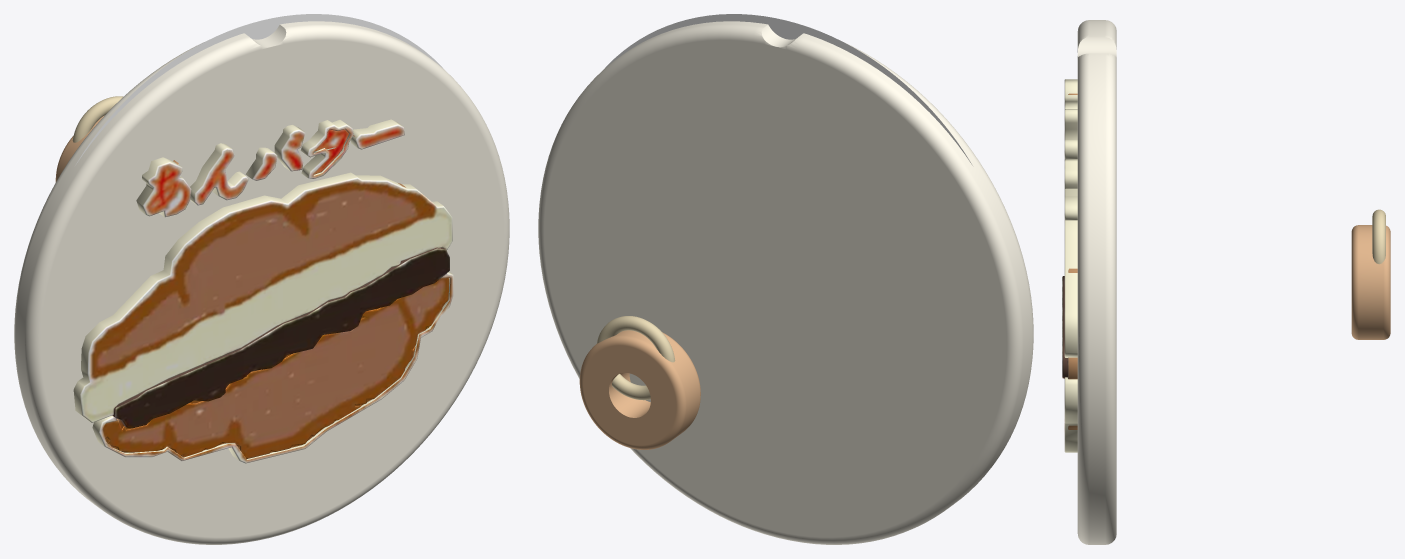
File: anbata.glb
3 views of the same model, side by side, from view 1: azimuth 30°, elevation 25°; view 2: azimuth 150°, elevation 25°; view 3: azimuth 270°, elevation 25° (orthographic). The views are drawn at different scales.
Parts seen in each view (by area): view 1: anbata / domed solid body, anbata / raised cream 1, anbata / raised letter 1, anbata / raised bean 1, anbata / raised cream 4, anbata / original fine lines on front, anbata / raised cream 2, anbata / raised cream 3, anbata / raised cream 8, anbata / raised cream 5, anbata / raised cream 6, anbata / display-only small connector (+2 smaller); view 2: anbata / domed solid body, anbata / integrated eyelet, anbata / original fine lines on front, anbata / display-only small connector; view 3: anbata / domed solid body, anbata / integrated eyelet, anbata / raised cream 1, anbata / raised cream 4, anbata / display-only small connector, anbata / raised cream 6, anbata / raised cream 3, anbata / raised cream 8, anbata / raised cream 2.
Part boxes in pixels (bbox=[...]): anbata / domed solid body: bbox=[14, 21, 509, 544]; anbata / raised cream 1: bbox=[73, 172, 452, 422]; anbata / raised letter 1: bbox=[103, 278, 449, 458]; anbata / raised bean 1: bbox=[112, 247, 449, 428]; anbata / raised cream 4: bbox=[92, 271, 453, 463]; anbata / original fine lines on front: bbox=[75, 14, 443, 165]; anbata / raised cream 2: bbox=[136, 157, 191, 217]; anbata / raised cream 3: bbox=[190, 143, 248, 205]; anbata / raised cream 8: bbox=[300, 120, 353, 178]; anbata / raised cream 5: bbox=[274, 125, 305, 171]; anbata / raised cream 6: bbox=[350, 119, 404, 149]; anbata / display-only small connector: bbox=[72, 96, 123, 142]; anbata / domed solid body: bbox=[538, 21, 1033, 544]; anbata / integrated eyelet: bbox=[579, 330, 700, 449]; anbata / original fine lines on front: bbox=[604, 14, 972, 165]; anbata / display-only small connector: bbox=[596, 316, 675, 400]; anbata / domed solid body: bbox=[1077, 20, 1116, 544]; anbata / integrated eyelet: bbox=[1351, 225, 1390, 339]; anbata / raised cream 1: bbox=[1064, 220, 1077, 357]; anbata / raised cream 4: bbox=[1064, 377, 1077, 452]; anbata / display-only small connector: bbox=[1372, 209, 1385, 264]; anbata / raised cream 6: bbox=[1064, 188, 1077, 220]; anbata / raised cream 3: bbox=[1064, 109, 1077, 139]; anbata / raised cream 8: bbox=[1064, 159, 1077, 188]; anbata / raised cream 2: bbox=[1064, 79, 1077, 109].
Bounding box in the file's own units: 48.4 × 49.13 × 30.27.
8 materials, 1 textured.
